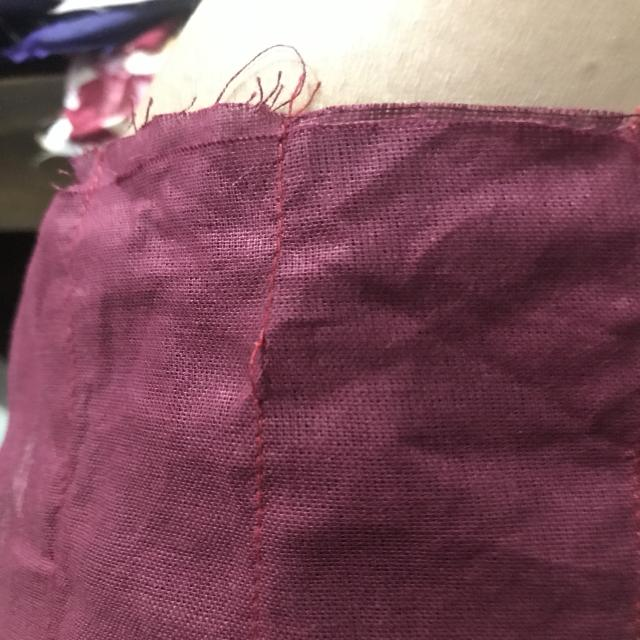skip: (206, 316, 301, 425)
